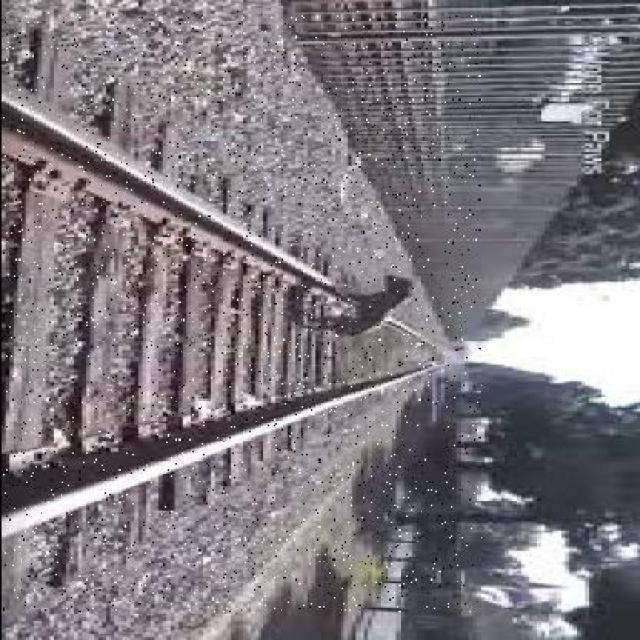danger: (294, 276, 426, 342)
rail: (0, 11, 479, 612)
